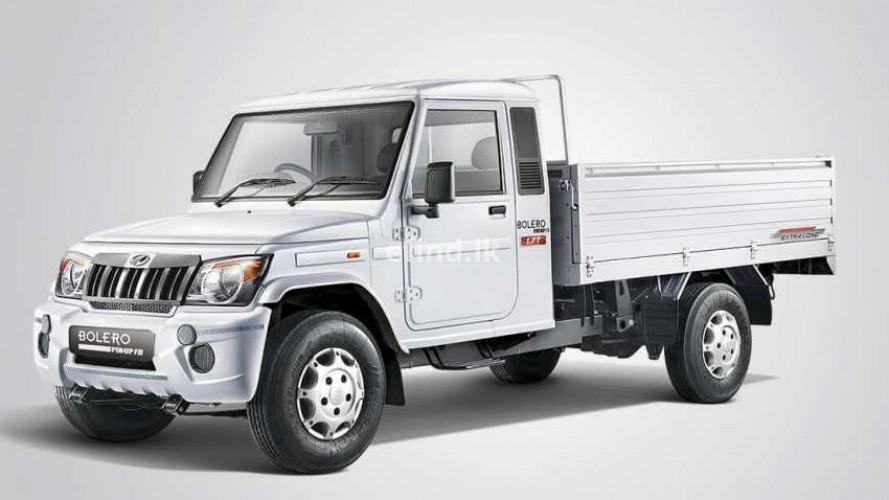truck: (33, 72, 834, 474)
